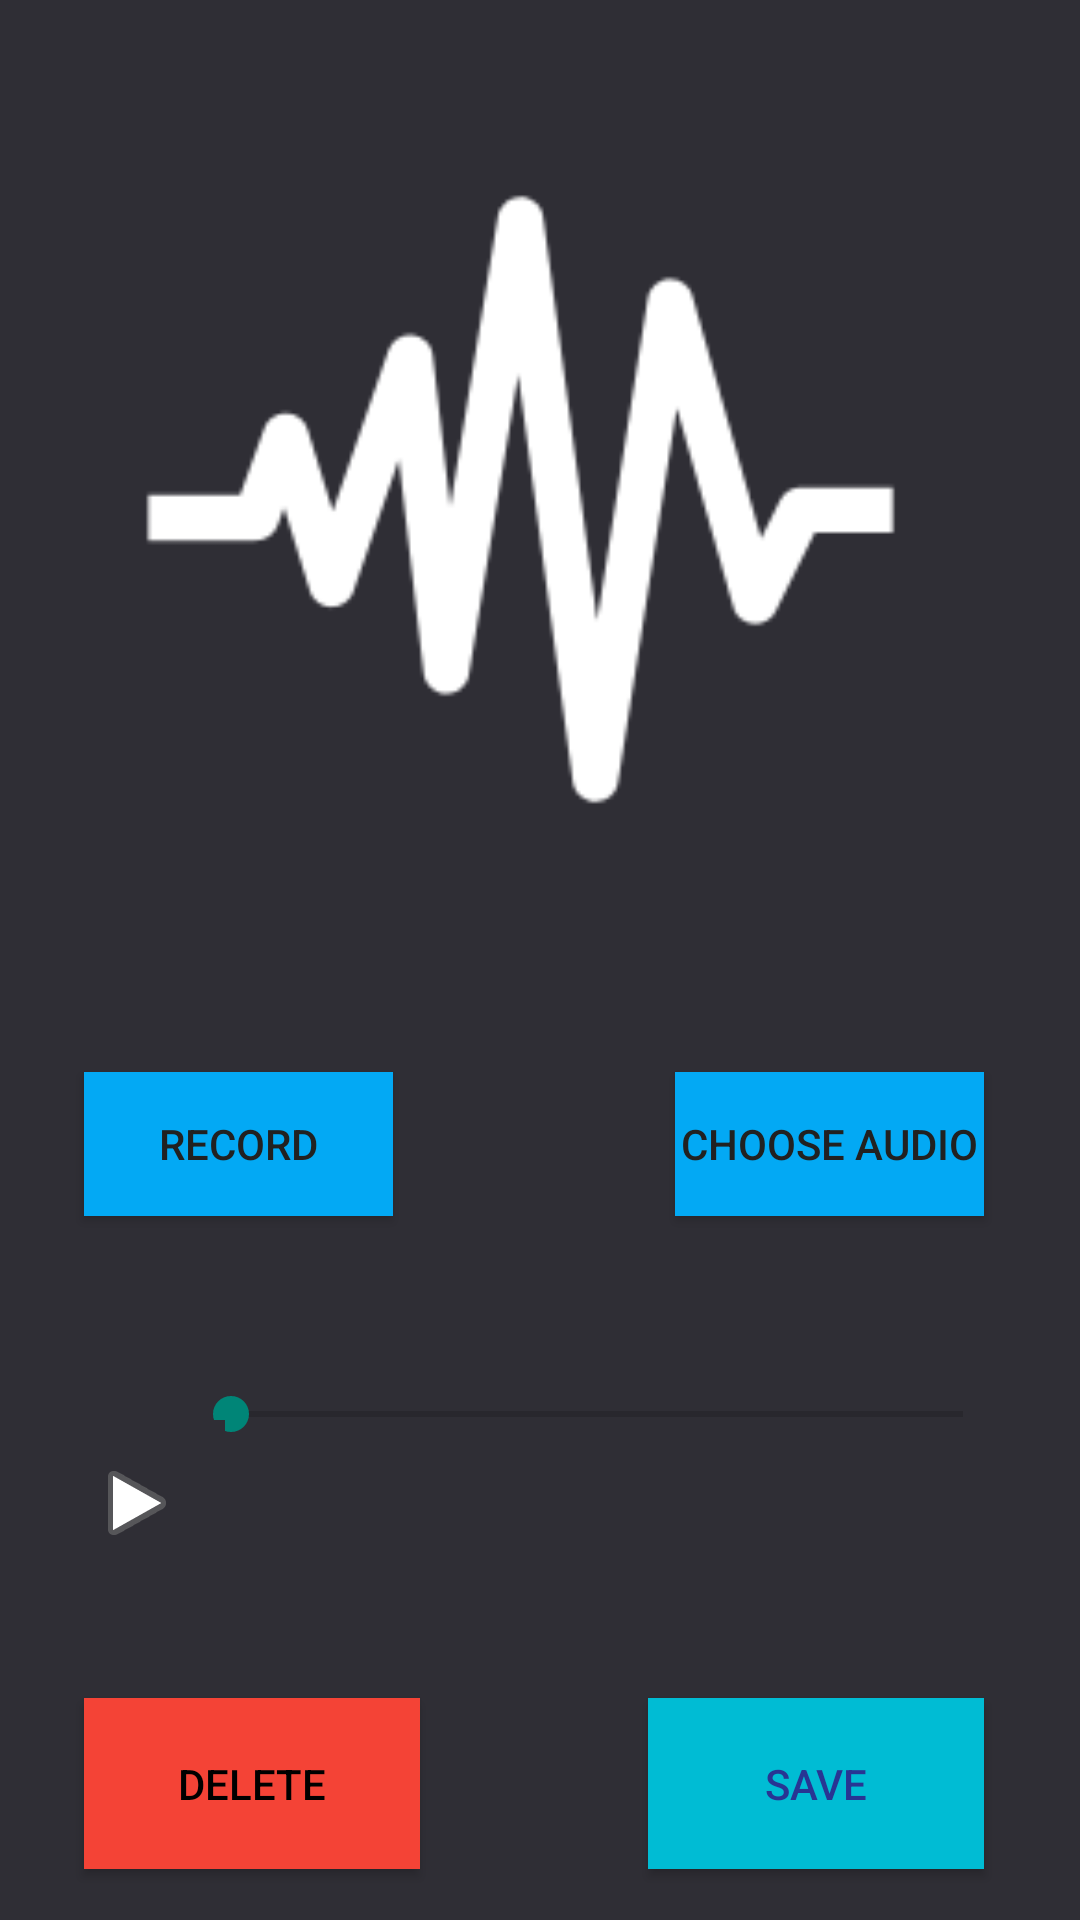

Where icons sit on this 1080 × 1920 app screen, as (x1, y1, x2, y2):
play: (108, 1471, 166, 1535)
